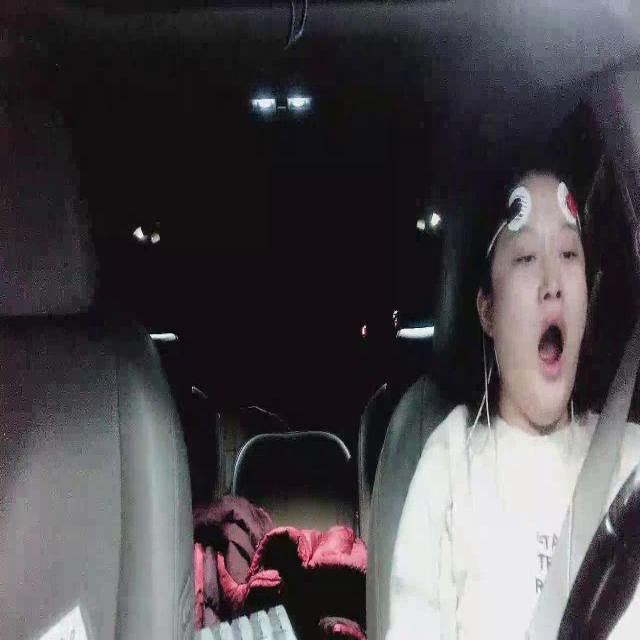Yawning: (534, 311, 570, 376)
